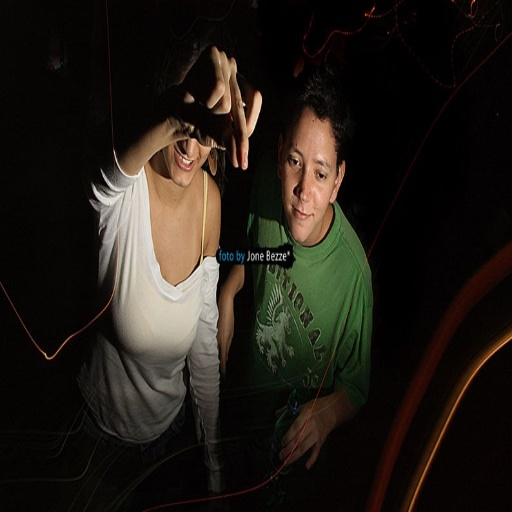hand: (179, 45, 256, 149), (277, 400, 334, 472), (215, 290, 235, 384)
